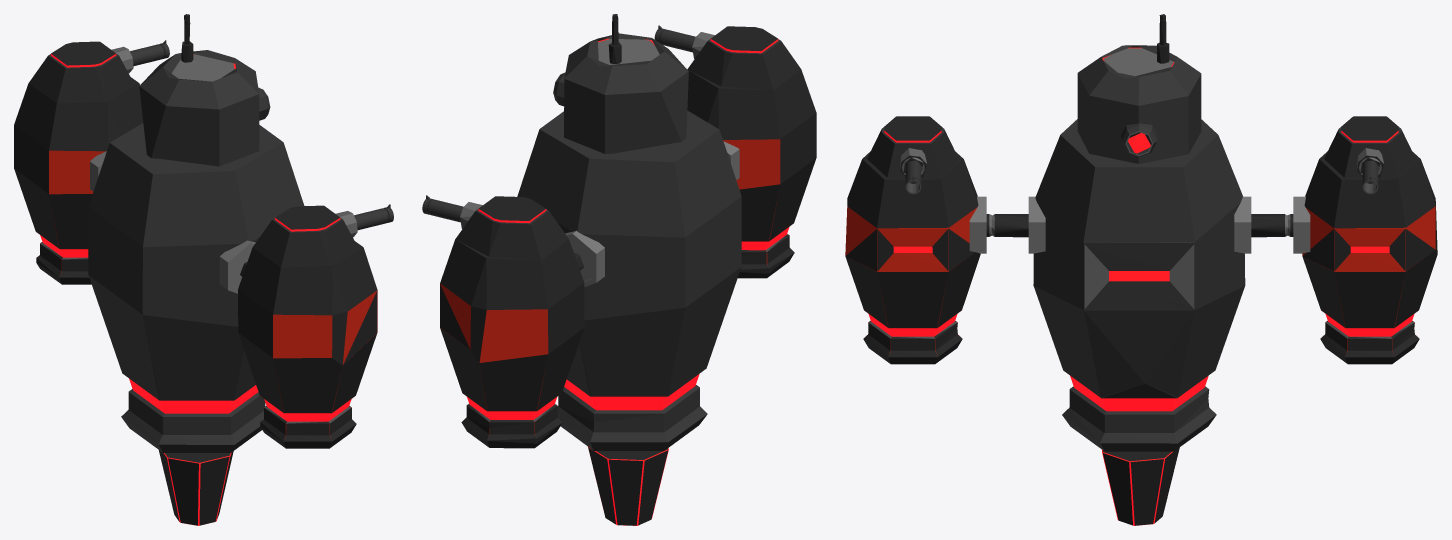
The model's file is Robot1_Low.fbx.
3 renders of one model, left to right at view 1: azimuth 30°, elevation 25°; view 2: azimuth 150°, elevation 25°; view 3: azimuth 270°, elevation 25°, orthographic. The views are drawn at different scales.
Visible parts, largest first — view 1: Cylinder, Cylinder.026, Cylinder.006, Cylinder.003, Cylinder.002, Cylinder.022, Cylinder.012, Cylinder.015, Cylinder.021, Cylinder.008, Cylinder.028; view 2: Cylinder, Cylinder.006, Cylinder.026, Cylinder.003, Cylinder.002, Cylinder.022, Cylinder.010, Cylinder.023, Cylinder.008, Cylinder.021, Cylinder.028, Cylinder.005; view 3: Cylinder, Cylinder.006, Cylinder.026, Cylinder.003, Cylinder.002, Cylinder.022, Cylinder.016, Cylinder.011, Cylinder.009, Cylinder.010, Cylinder.012, Cylinder.013 (+4 smaller).
Part boxes in pixels (x1,y1,x2,y2): Cylinder: [88, 123, 304, 452]; Cylinder.026: [238, 205, 377, 448]; Cylinder.006: [14, 41, 143, 284]; Cylinder.003: [139, 50, 259, 166]; Cylinder.002: [159, 450, 233, 525]; Cylinder.022: [129, 378, 258, 413]; Cylinder.012: [219, 240, 255, 293]; Cylinder.015: [264, 399, 351, 421]; Cylinder.021: [354, 204, 393, 230]; Cylinder.008: [130, 40, 169, 65]; Cylinder.028: [163, 452, 231, 525]; Cylinder: [517, 110, 741, 450]; Cylinder.006: [440, 196, 584, 448]; Cylinder.026: [687, 26, 816, 278]; Cylinder.003: [564, 33, 688, 153]; Cylinder.002: [588, 447, 668, 525]; Cylinder.022: [564, 374, 699, 410]; Cylinder.010: [565, 230, 604, 286]; Cylinder.023: [467, 397, 556, 419]; Cylinder.008: [422, 195, 463, 222]; Cylinder.021: [654, 25, 695, 52]; Cylinder.028: [588, 447, 668, 525]; Cylinder.005: [608, 14, 621, 63]; Cylinder: [1033, 119, 1245, 451]; Cylinder.006: [1302, 116, 1437, 364]; Cylinder.026: [845, 116, 980, 364]; Cylinder.003: [1077, 45, 1201, 163]; Cylinder.002: [1102, 447, 1179, 525]; Cylinder.022: [1070, 375, 1208, 411]; Cylinder.016: [1251, 214, 1293, 237]; Cylinder.011: [986, 214, 1028, 237]; Cylinder.009: [1293, 196, 1310, 253]; Cylinder.010: [1234, 196, 1251, 253]; Cylinder.012: [1028, 196, 1045, 253]; Cylinder.013: [969, 196, 986, 253].
Bounding box in the file's own units: 257 × 240 × 83.65.
